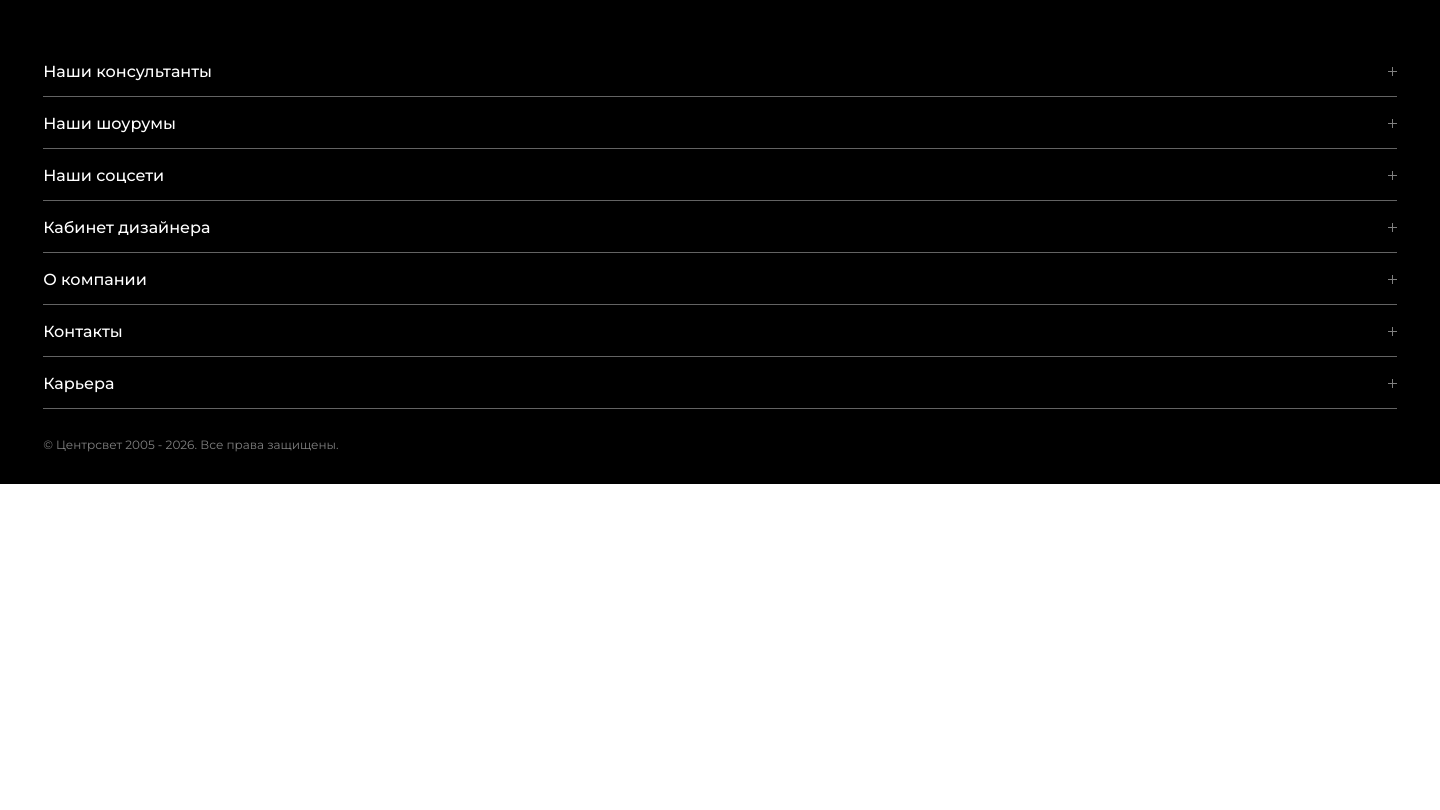
Test case: SiteFooter › прячет пункты раздела, пока он свёрнут, и показывает после нажатия на заголовок
Expected: the text "Telegram" is not shown
Click the heading "Наши соцсети" at (104, 176), box 43,166 -> 164,185
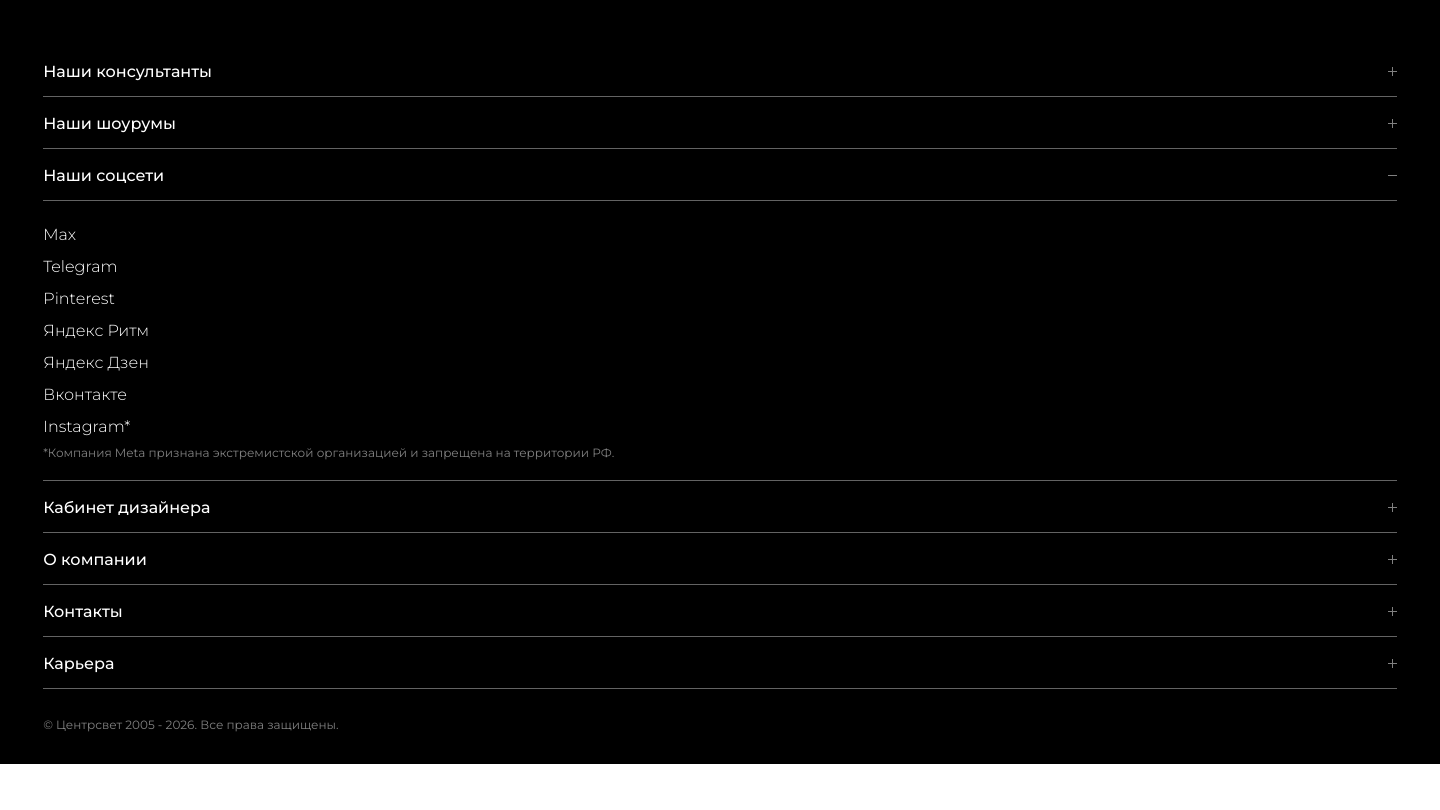
Expected: the link "Telegram" is shown, 43,257 -> 118,276
